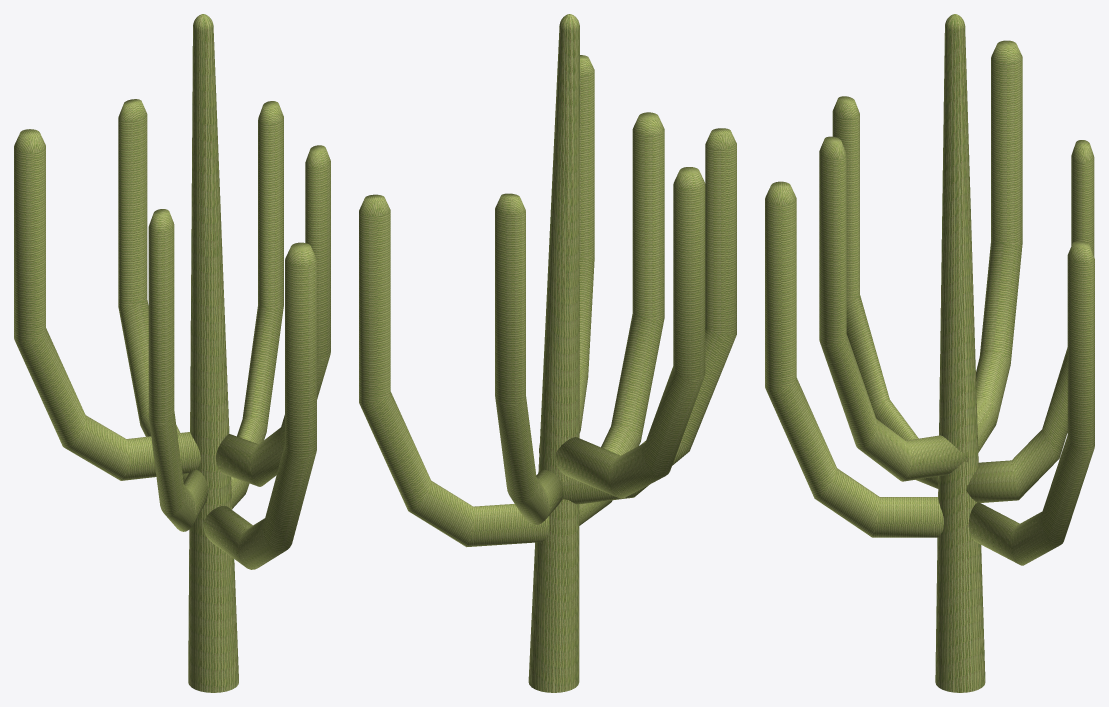
The model's file is epsteinPlants.dae.
3 renders of one model, left to right at view 1: azimuth 30°, elevation 25°; view 2: azimuth 150°, elevation 25°; view 3: azimuth 270°, elevation 25°, orthographic.
Parts seen in each view (by area): view 1: group_0, group_7, group_1, group_3, group_5, group_6, group_4; view 2: group_0, group_5, group_7, group_1, group_6, group_3, group_4; view 3: group_0, group_1, group_4, group_7, group_5, group_6, group_3.
Boxes of the visible parts, <box> form: group_0: <box>188,14,238,692</box>; group_7: <box>14,129,200,480</box>; group_1: <box>203,242,316,569</box>; group_3: <box>148,209,208,531</box>; group_5: <box>231,101,283,508</box>; group_6: <box>118,99,188,481</box>; group_4: <box>216,145,330,486</box>; group_0: <box>528,14,579,692</box>; group_5: <box>359,194,549,547</box>; group_7: <box>554,167,705,498</box>; group_1: <box>579,112,664,525</box>; group_6: <box>495,193,563,524</box>; group_3: <box>561,128,736,504</box>; group_4: <box>539,55,594,452</box>; group_0: <box>935,14,985,692</box>; group_1: <box>765,181,943,537</box>; group_4: <box>819,136,968,481</box>; group_7: <box>976,40,1022,452</box>; group_5: <box>968,241,1094,565</box>; group_6: <box>966,140,1094,502</box>; group_3: <box>832,96,938,488</box>.
Size of what is drawn, in the model's own units: 291 by 276 by 612.
Materials: 3 (2 with a texture image).
